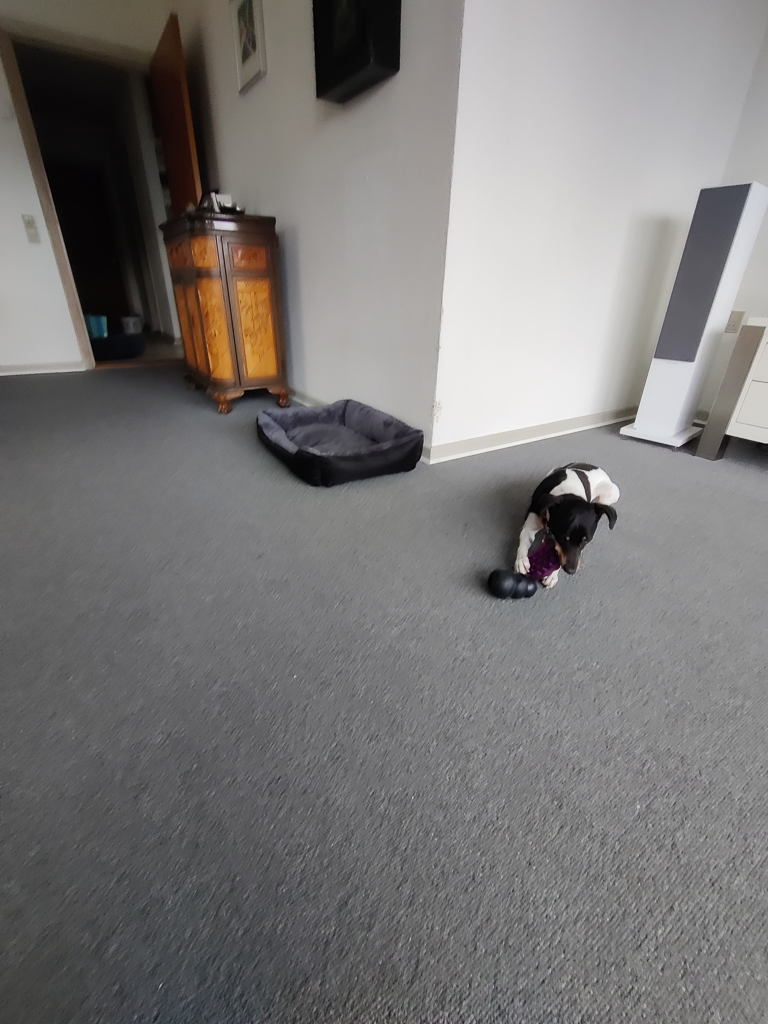Dog: (502, 452, 638, 596)
